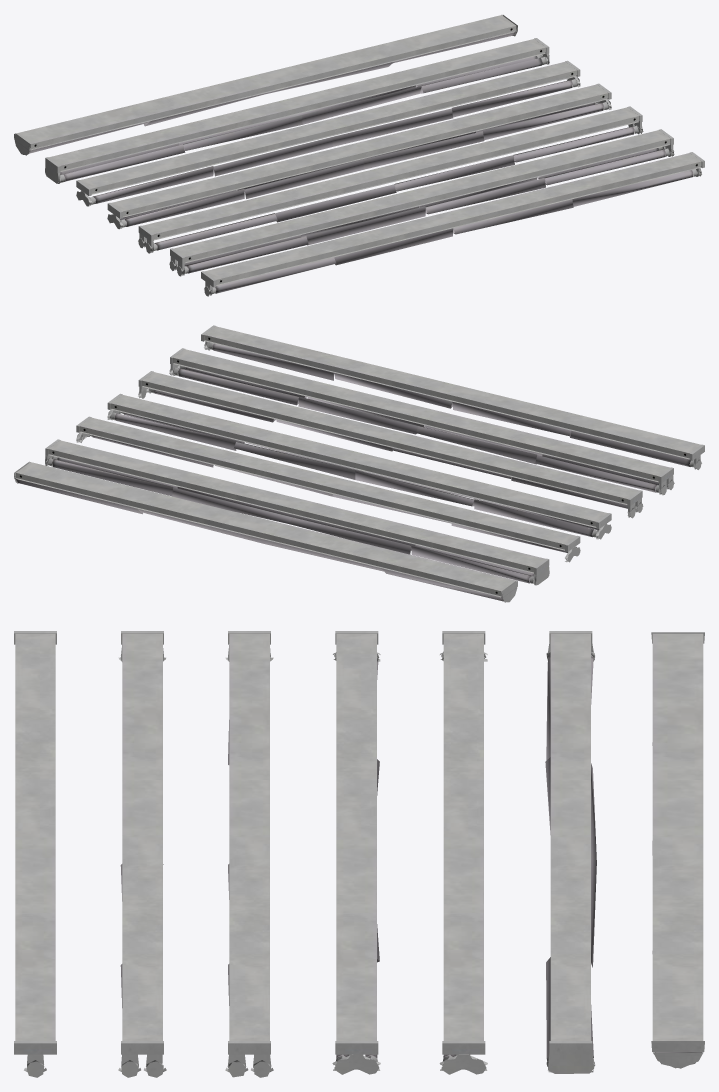
Rendered from ph_mounted_fluorescent_lights.glb.
3 views of the same model, one above another, from view 1: azimuth 30°, elevation 25°; view 2: azimuth 150°, elevation 25°; view 3: azimuth 270°, elevation 25° (orthographic). The views are drawn at different scales.
Parts seen in each view (by area): view 1: mounted_fluorescent_lights_a; view 2: mounted_fluorescent_lights_a; view 3: mounted_fluorescent_lights_a.
Boxes of the visible parts, <box> form: mounted_fluorescent_lights_a: <box>14,15,704,296</box>; mounted_fluorescent_lights_a: <box>14,325,704,602</box>; mounted_fluorescent_lights_a: <box>14,631,704,1077</box>.
Size of the model in its own units: 0.9122 by 0.0356 by 0.6454.
2 materials, 2 textured.
